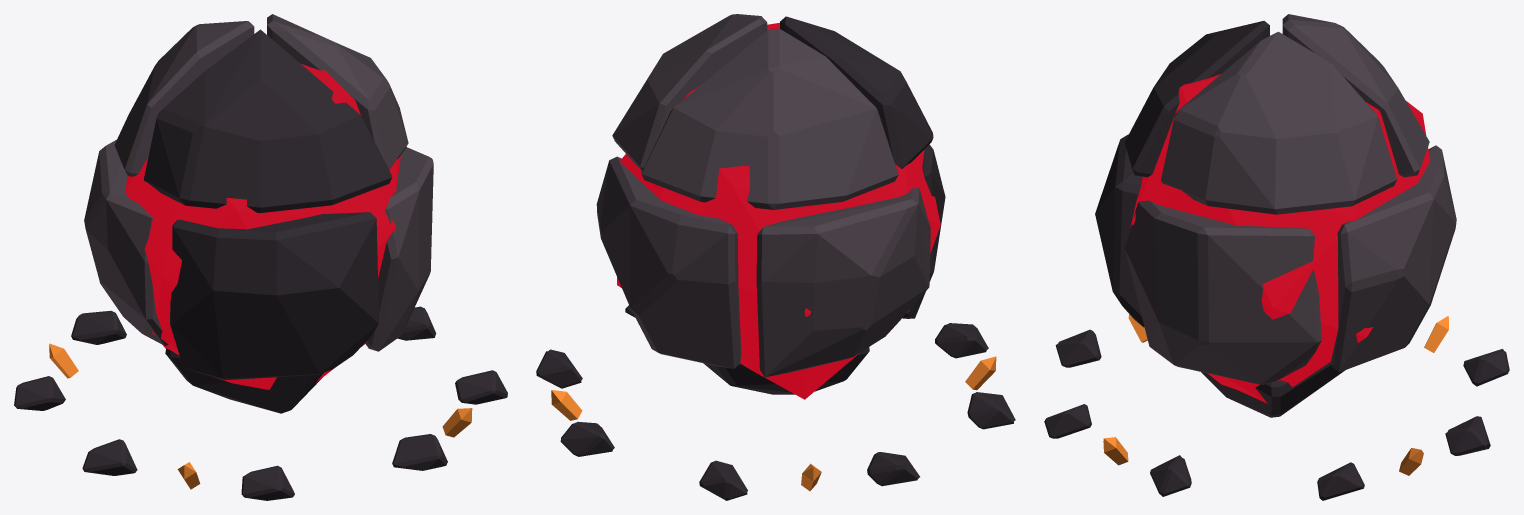
Rendered from Meteor.glb.
3 renders of one model, left to right at view 1: azimuth 30°, elevation 25°; view 2: azimuth 150°, elevation 25°; view 3: azimuth 270°, elevation 25°, orthographic.
Visible parts, largest first — view 1: Shell_4, Shell_7, Crater, Core, Shell_3, Shell_5, Shell_8, Shell_6, Shell_1; view 2: Shell_6, Shell_3, Shell_2, Core, Crater, Shell_8, Shell_7, Shell_1, Shell_4; view 3: Shell_8, Shell_5, Shell_2, Core, Crater, Shell_6, Shell_7, Shell_4, Shell_1.
Part boxes in pixels (x1,y1,x2,y2): Shell_4: (170, 212, 378, 380); Shell_7: (143, 29, 392, 212); Crater: (14, 306, 507, 500); Core: (125, 64, 400, 389); Shell_3: (84, 139, 168, 345); Shell_5: (365, 147, 433, 351); Shell_8: (267, 14, 408, 169); Shell_6: (114, 21, 254, 176); Shell_1: (165, 348, 323, 413); Shell_6: (641, 28, 898, 209); Shell_3: (756, 187, 930, 377); Shell_2: (596, 156, 741, 368); Core: (617, 23, 940, 399); Crater: (536, 305, 1015, 500); Shell_8: (612, 14, 767, 171); Shell_7: (780, 16, 933, 168); Shell_1: (703, 347, 869, 394); Shell_4: (902, 144, 945, 318); Shell_8: (1161, 31, 1397, 214); Shell_5: (1125, 200, 1321, 384); Shell_2: (1331, 145, 1456, 372); Core: (1130, 74, 1430, 403); Crater: (1044, 314, 1509, 500); Shell_6: (1282, 14, 1429, 177); Shell_7: (1124, 21, 1269, 177); Shell_4: (1095, 134, 1144, 327); Shell_1: (1201, 362, 1345, 417).
Bounding box in the file's own units: 0.9448 × 0.851 × 0.9309.
